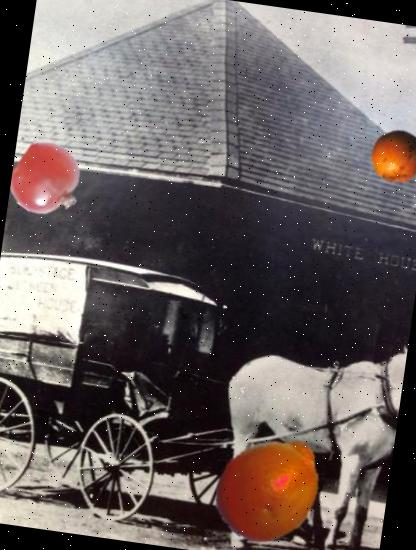Granadilla: (368, 126, 416, 188)
Redcurrant: (7, 141, 88, 222)
Tangelo: (205, 424, 333, 550)
